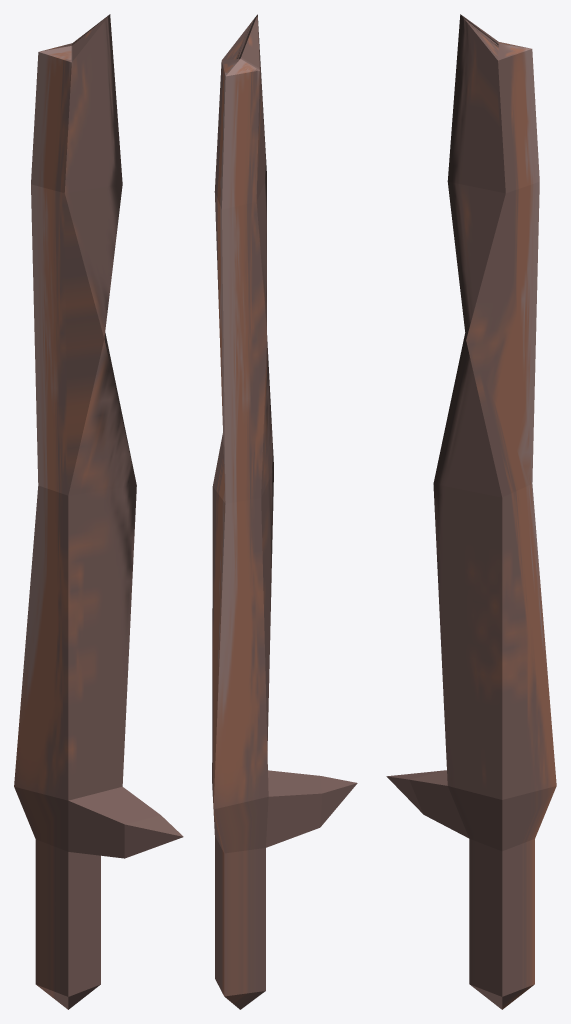
Rendered from brokeSword.fbx.
3 views of the same model, side by side, from view 1: azimuth 90°, elevation 25°; view 2: azimuth 150°, elevation 25°; view 3: azimuth 270°, elevation 25° (orthographic).
Visible parts, largest first — view 1: Cylinder; view 2: Cylinder; view 3: Cylinder.
Boxes of the visible parts, box(x1,y1,x2,y2) form: Cylinder: box(14, 14, 183, 1009); Cylinder: box(212, 14, 357, 1009); Cylinder: box(386, 14, 556, 1009).
Bounding box in the file's own units: 10.37 × 109 × 16.93.
